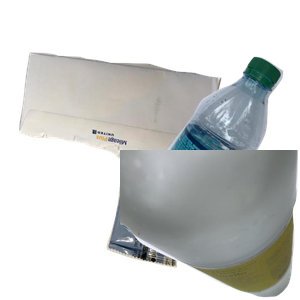glass: (120, 150, 300, 300)
paper: (17, 50, 231, 230)
plastic: (142, 54, 300, 234)
trash: (104, 152, 280, 300)
